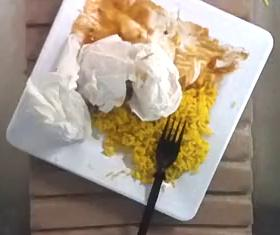rice: (92, 104, 168, 184), (165, 81, 217, 182)
